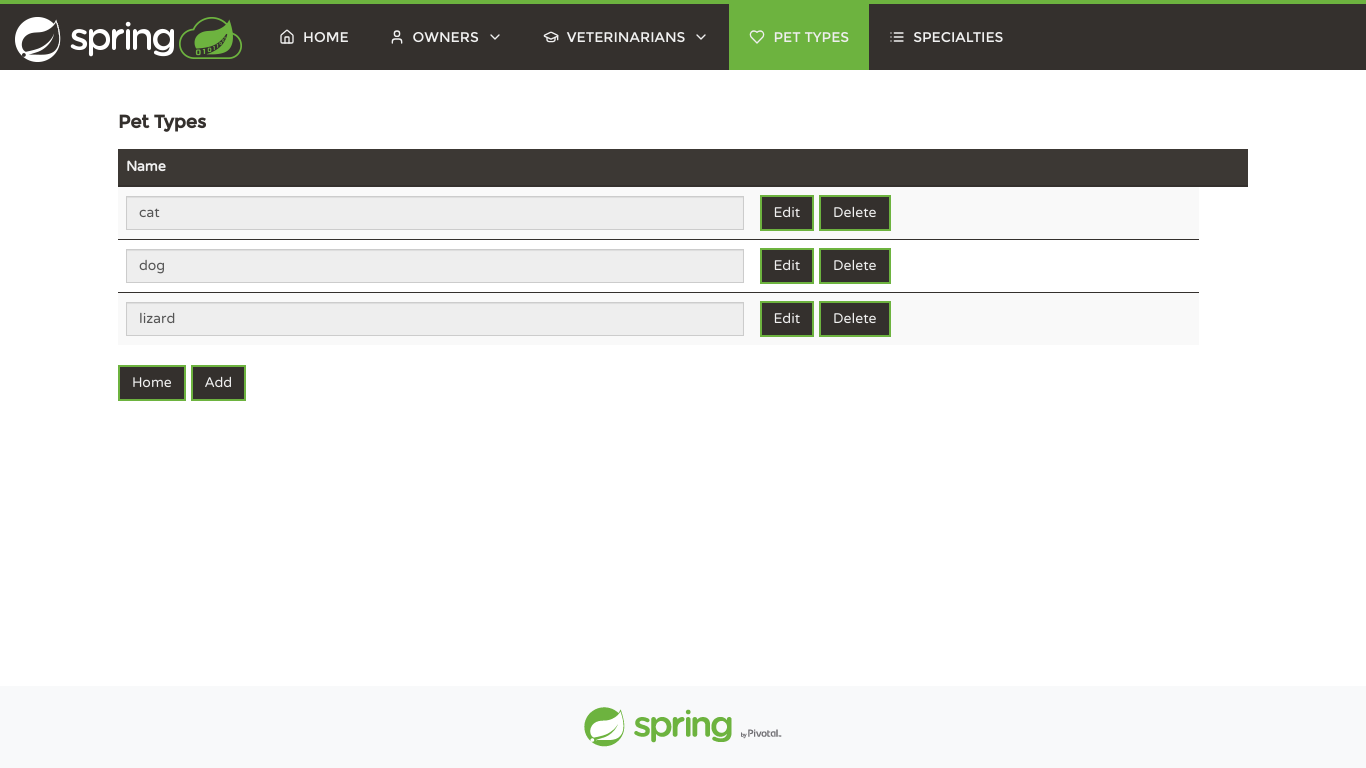
PetTypeListPage › navigates to the edit page and to the add page
expect the field showing "dog" is shown: met, box [126,249,744,283]
Click the 2nd button "Edit": (787, 266) [760,248,814,284]
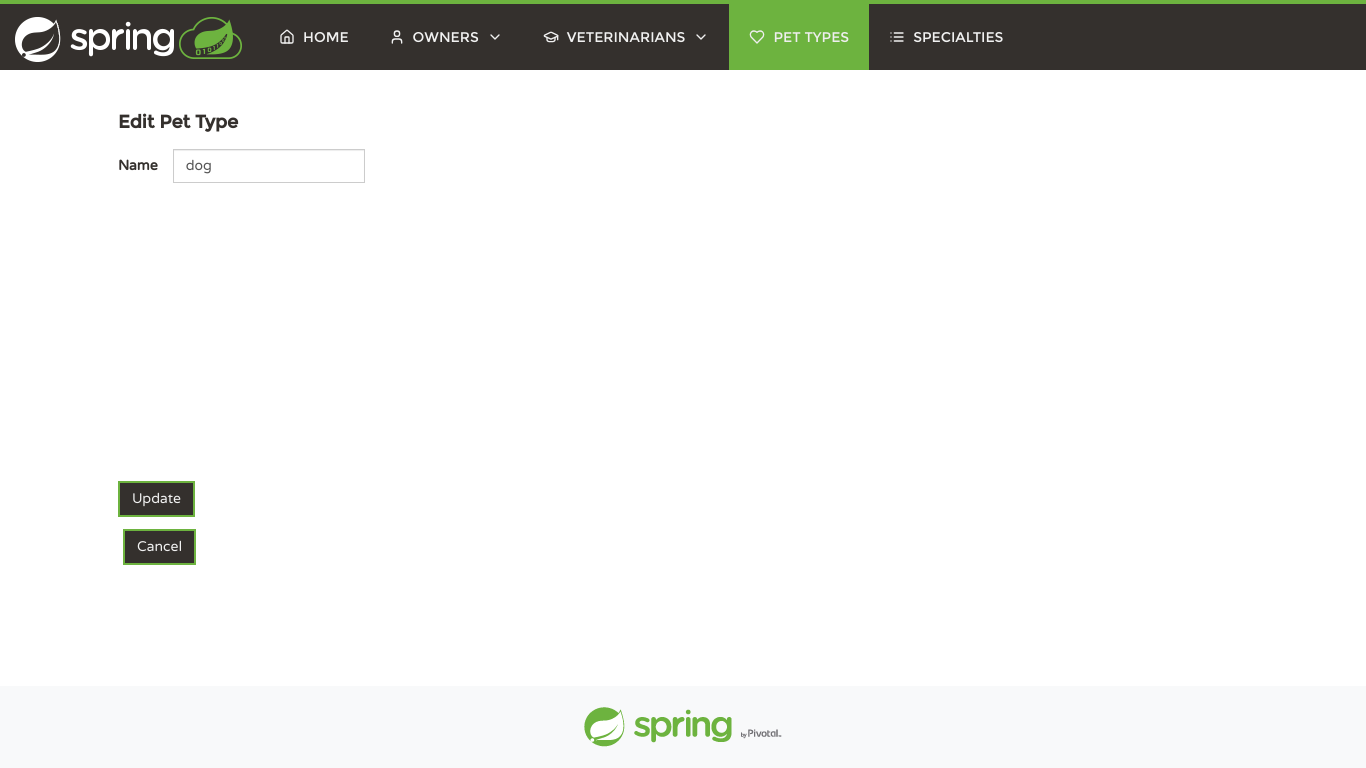
expect the heading reads "Edit Pet Type": met, box [118,112,238,132]
